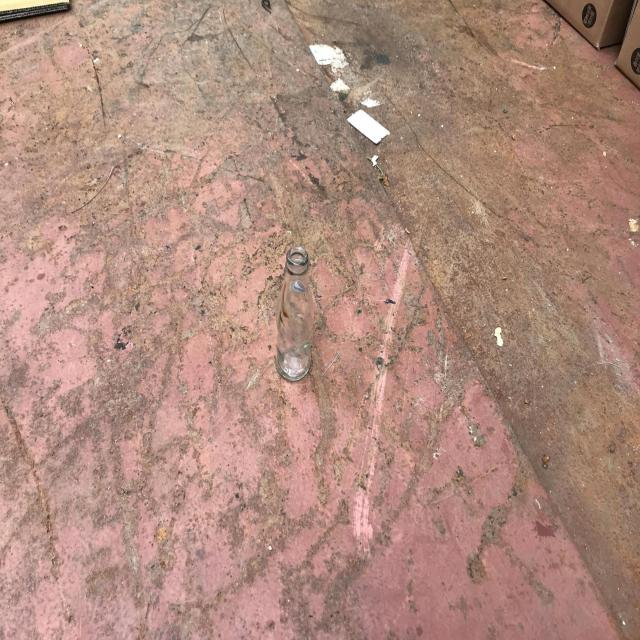glass: (276, 246, 314, 381)
